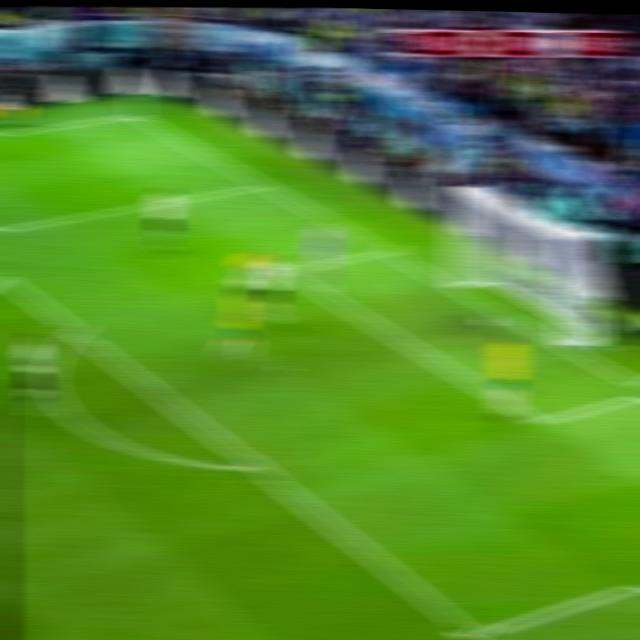bigarea_bottom_inner: (452, 620, 494, 640)
bigarea_top_outter: (248, 175, 272, 195)
bottom_arc_area_intersection: (234, 444, 275, 490)
corner: (120, 107, 148, 122)
smallarea_bottom_inner: (524, 408, 552, 435)
smallarea_top_inner: (272, 260, 299, 285)
smallarea_top_outter: (368, 241, 401, 260)
top_arc_area_intersection: (60, 315, 90, 346)
